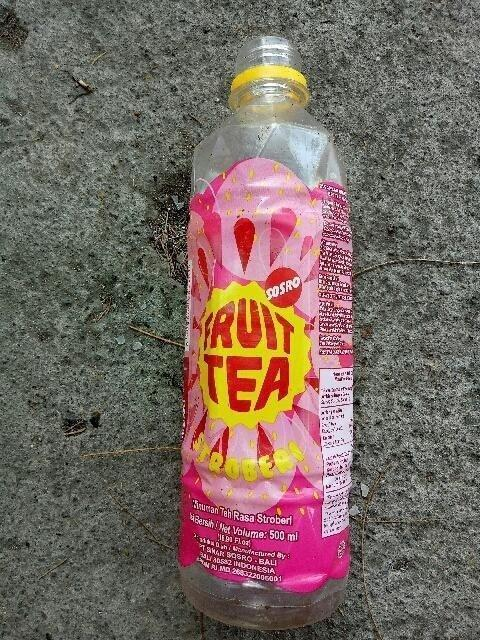bottle-plastic: (170, 30, 364, 637)
